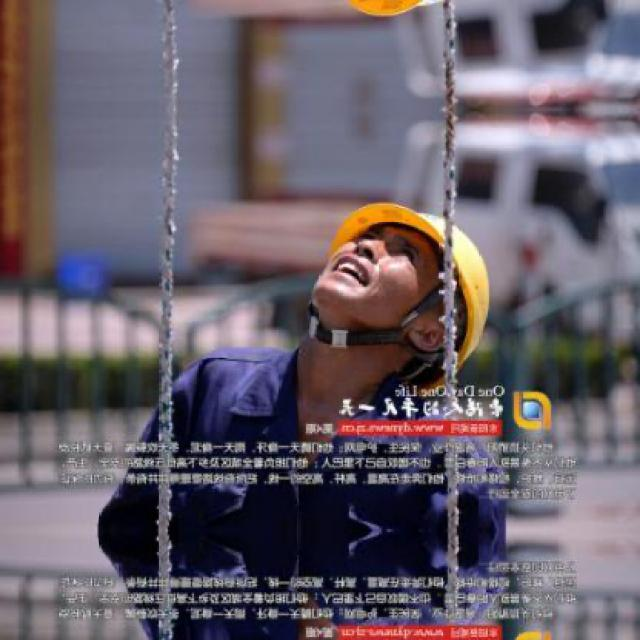helmet: (301, 185, 477, 359), (300, 0, 477, 35)
